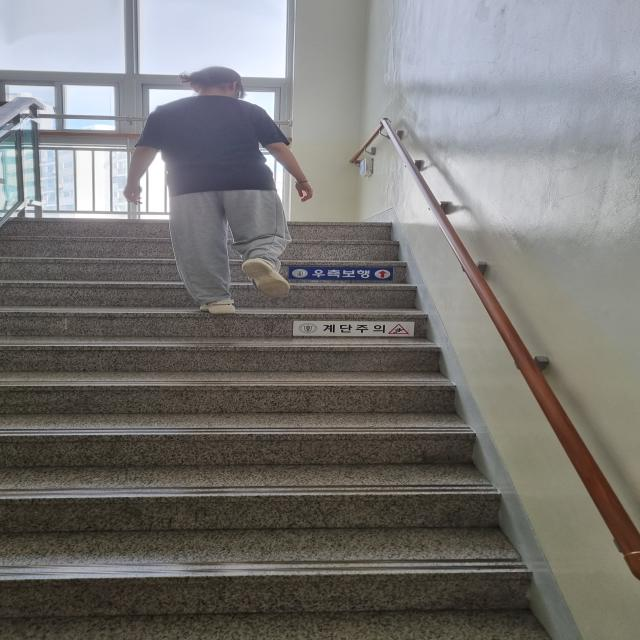logo: (297, 322, 319, 334), (292, 268, 309, 279)
